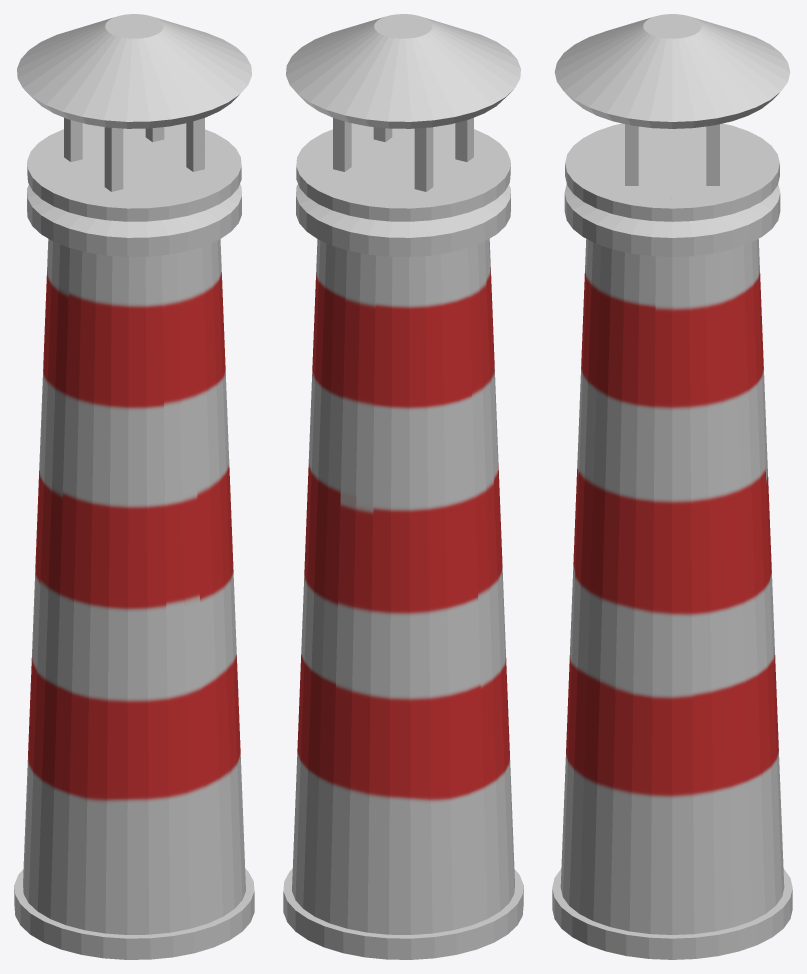
The model's file is Faro.fbx.
3 renders of one model, left to right at view 1: azimuth 30°, elevation 25°; view 2: azimuth 150°, elevation 25°; view 3: azimuth 270°, elevation 25°, orthographic.
Parts seen in each view (by area): view 1: FaroBase; view 2: FaroBase; view 3: FaroBase.
Part boxes in pixels (box(x1,y1,x2,y2)): FaroBase: box(14, 14, 254, 959); FaroBase: box(283, 14, 523, 959); FaroBase: box(552, 14, 792, 959).
Size of the model in its own units: 20 by 80.98 by 20.
